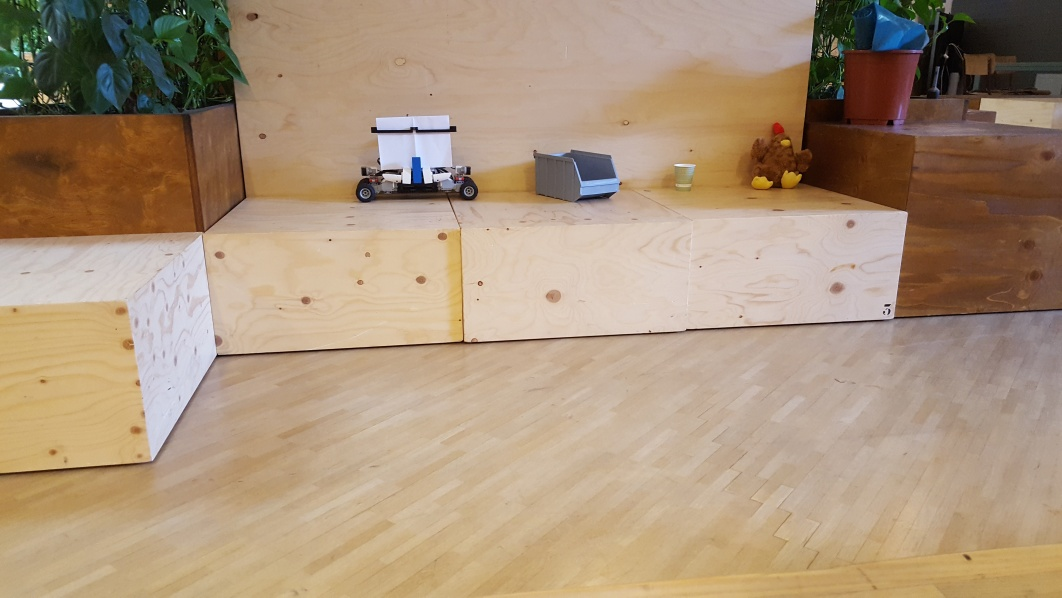beam: (407, 154, 425, 187)
chicken: (751, 122, 811, 189)
cup: (671, 164, 698, 192)
tray: (529, 147, 621, 201)
